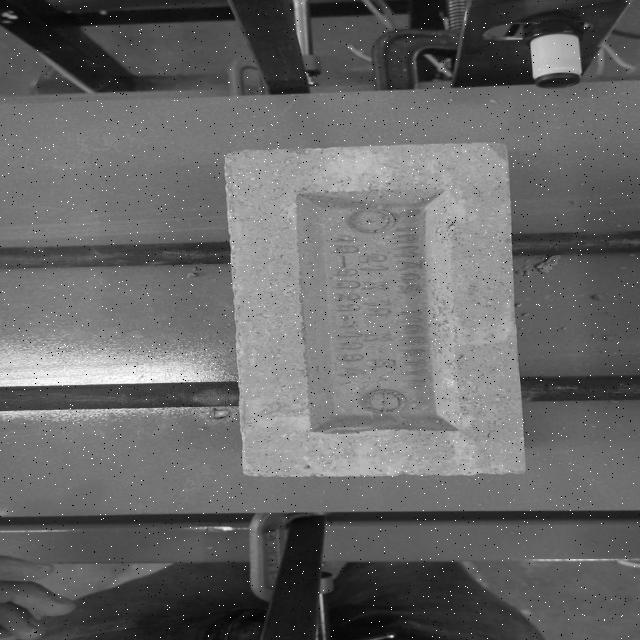bricks: (224, 143, 529, 479)
